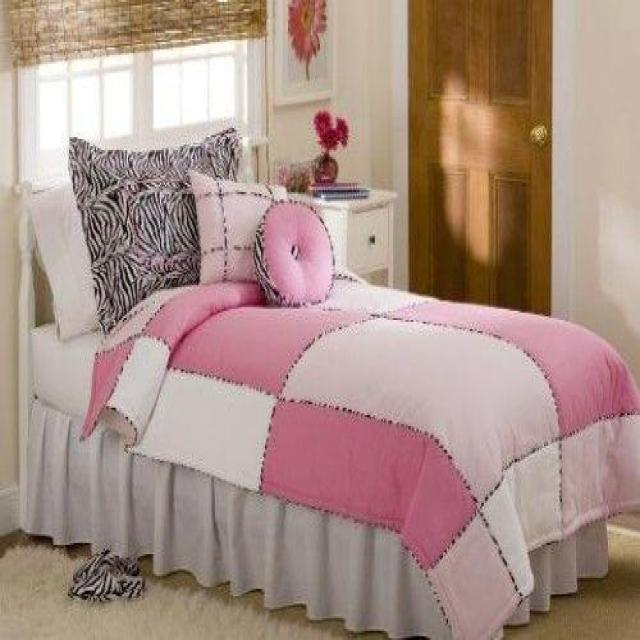bed: (10, 124, 640, 640)
